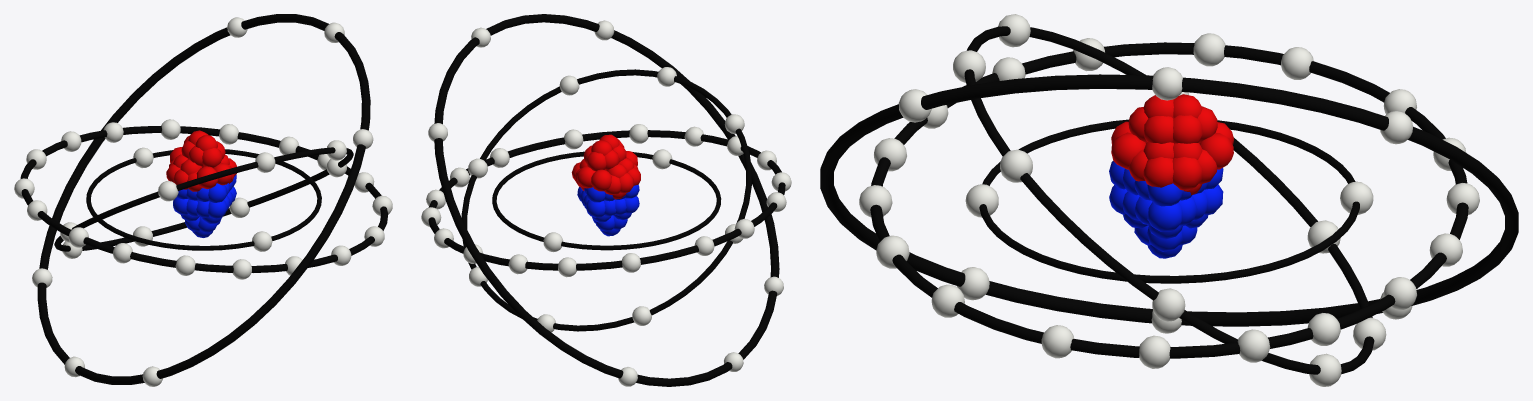
The model's file is 33 Arsenico.fbx.
3 views of the same model, side by side, from view 1: azimuth 30°, elevation 25°; view 2: azimuth 150°, elevation 25°; view 3: azimuth 270°, elevation 25° (orthographic). The views are drawn at different scales.
Parts seen in each view (by area): view 1: Orbita.004, Nucleo.001, Orbita.003, Orbita.002, Orbita.001, Electron.009, Electron.012, Electron, Electron.024, Electron.015, Electron.001, Electron.028 (+2 smaller); view 2: Orbita.004, Nucleo.001, Orbita.002, Orbita.003, Orbita.001, Electron.010, Electron.017, Electron, Electron.006, Electron.001; view 3: Orbita.004, Nucleo.001, Orbita.003, Orbita.002, Orbita.001, Electron.029, Electron.008, Electron.030, Electron.016, Electron.022, Electron.031, Electron.026 (+21 smaller).
Part boxes in pixels (x1=…): Orbita.004: x1=37, y1=14, x2=370, y2=384; Nucleo.001: x1=166, y1=130, x2=236, y2=237; Orbita.003: x1=20, y1=126, x2=388, y2=272; Orbita.002: x1=54, y1=147, x2=353, y2=251; Orbita.001: x1=86, y1=149, x2=321, y2=250; Electron.009: x1=158, y1=181, x2=178, y2=201; Electron.012: x1=175, y1=255, x2=195, y2=275; Electron: x1=252, y1=231, x2=272, y2=251; Electron.024: x1=161, y1=119, x2=180, y2=139; Electron.015: x1=219, y1=124, x2=238, y2=144; Electron.001: x1=133, y1=147, x2=153, y2=168; Electron.028: x1=232, y1=259, x2=251, y2=279; Orbita.004: x1=434, y1=14, x2=779, y2=386; Nucleo.001: x1=571, y1=134, x2=640, y2=236; Orbita.002: x1=461, y1=69, x2=751, y2=331; Orbita.003: x1=428, y1=130, x2=785, y2=270; Orbita.001: x1=492, y1=151, x2=721, y2=250; Electron.010: x1=559, y1=75, x2=579, y2=95; Electron.017: x1=564, y1=129, x2=583, y2=149; Electron: x1=652, y1=149, x2=672, y2=169; Electron.006: x1=632, y1=306, x2=651, y2=325; Electron.001: x1=543, y1=232, x2=563, y2=252; Orbita.004: x1=820, y1=74, x2=1518, y2=326; Nucleo.001: x1=1109, y1=94, x2=1233, y2=258; Orbita.003: x1=870, y1=42, x2=1468, y2=358; Orbita.002: x1=964, y1=26, x2=1374, y2=374; Orbita.001: x1=979, y1=119, x2=1359, y2=283; Electron.029: x1=1193, y1=33, x2=1225, y2=66; Electron.008: x1=1152, y1=288, x2=1185, y2=321; Electron.030: x1=1139, y1=335, x2=1170, y2=368; Electron.016: x1=1237, y1=329, x2=1270, y2=362; Electron.022: x1=1041, y1=325, x2=1073, y2=358; Electron.031: x1=1152, y1=67, x2=1182, y2=100; Electron.026: x1=1281, y1=47, x2=1313, y2=79.
Size of the model in its own units: 14.15 by 12.43 by 10.48.
